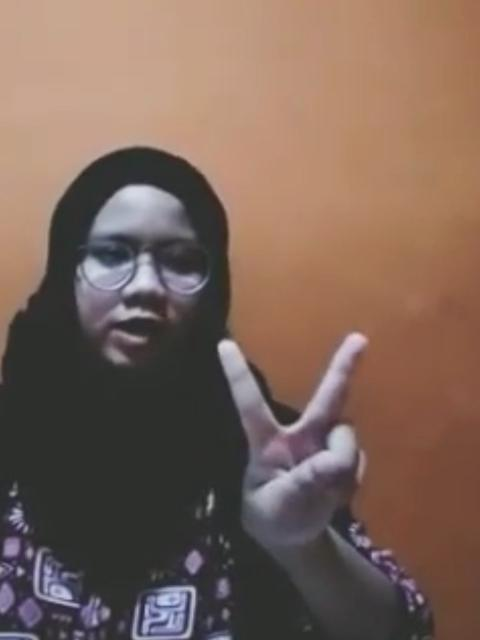V: (210, 324, 380, 558)
